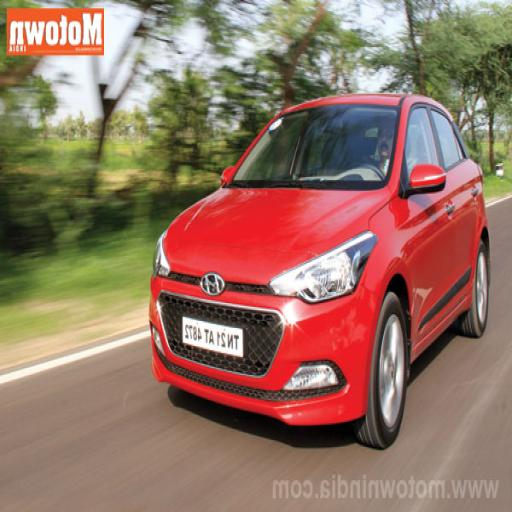License: (176, 319, 247, 357)
